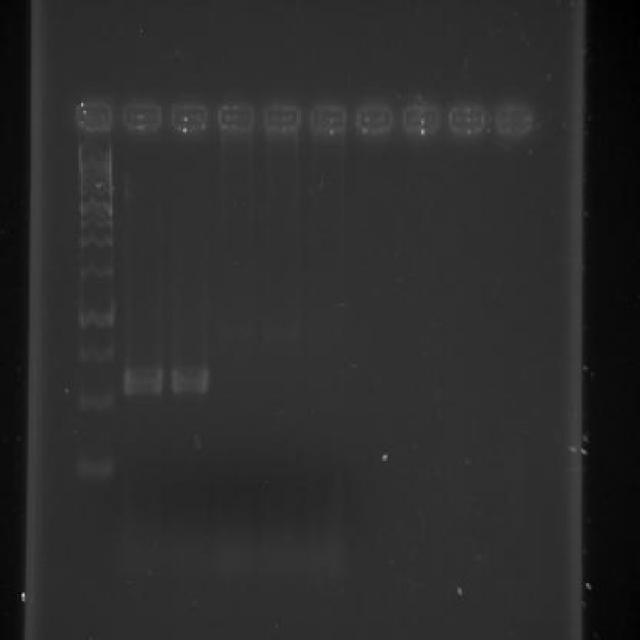B: (120, 362, 166, 400), (168, 362, 214, 398)
L: (68, 88, 546, 148)
M: (72, 142, 120, 488)
P: (76, 453, 116, 484), (76, 302, 115, 332), (76, 388, 116, 414), (78, 340, 114, 366), (76, 193, 116, 216), (77, 260, 114, 282), (78, 229, 114, 251), (77, 216, 116, 230)
Pc: (121, 96, 164, 138), (445, 98, 490, 137), (493, 98, 536, 138), (353, 101, 395, 141), (399, 98, 441, 138), (306, 99, 348, 138), (169, 99, 208, 139), (217, 99, 257, 138), (75, 98, 116, 136), (262, 99, 302, 136)
